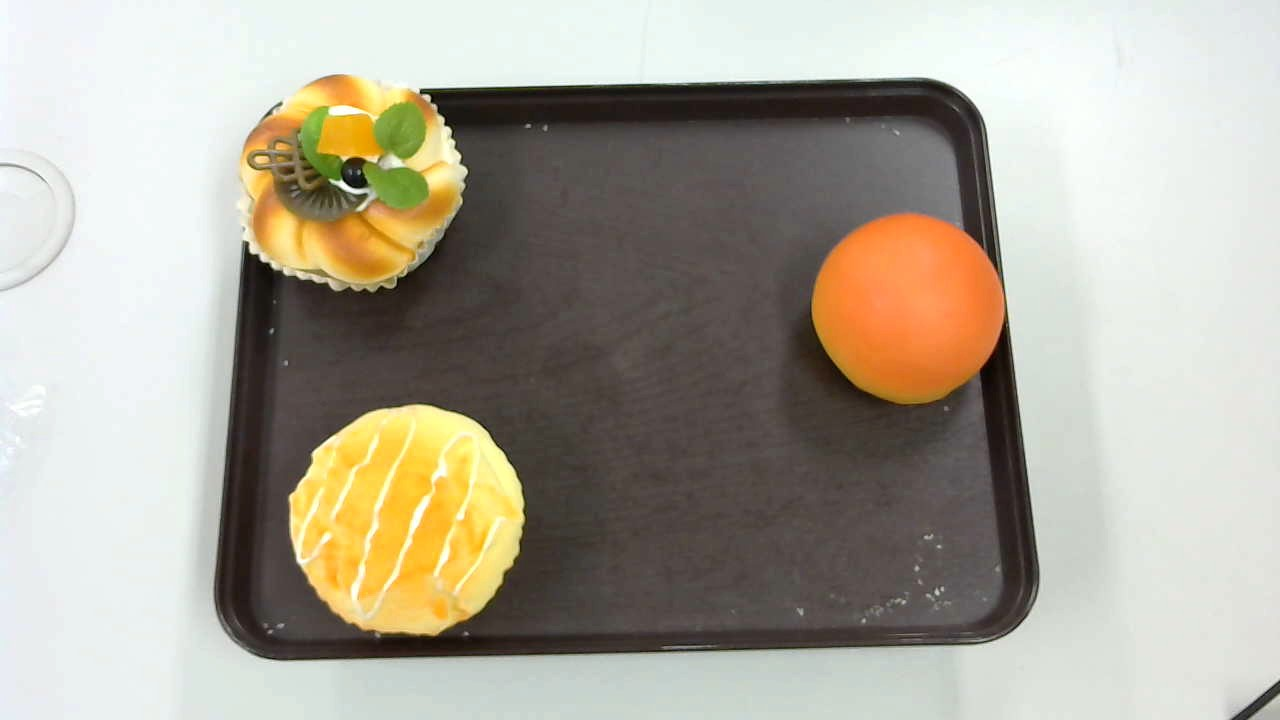bun: (809, 211, 1007, 404)
cupcake: (287, 402, 525, 638)
fruit tart: (238, 74, 468, 293)
